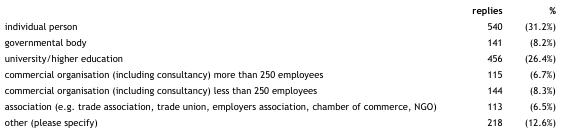table: (3, 3, 554, 127)
table column: (3, 3, 453, 127), (453, 3, 512, 127), (512, 3, 554, 127)
table column header: (3, 3, 554, 17)
table row: (3, 17, 554, 33), (3, 33, 554, 49), (3, 49, 554, 65), (3, 65, 554, 81), (3, 81, 554, 97), (3, 97, 554, 113), (3, 3, 554, 17), (3, 113, 554, 127)
